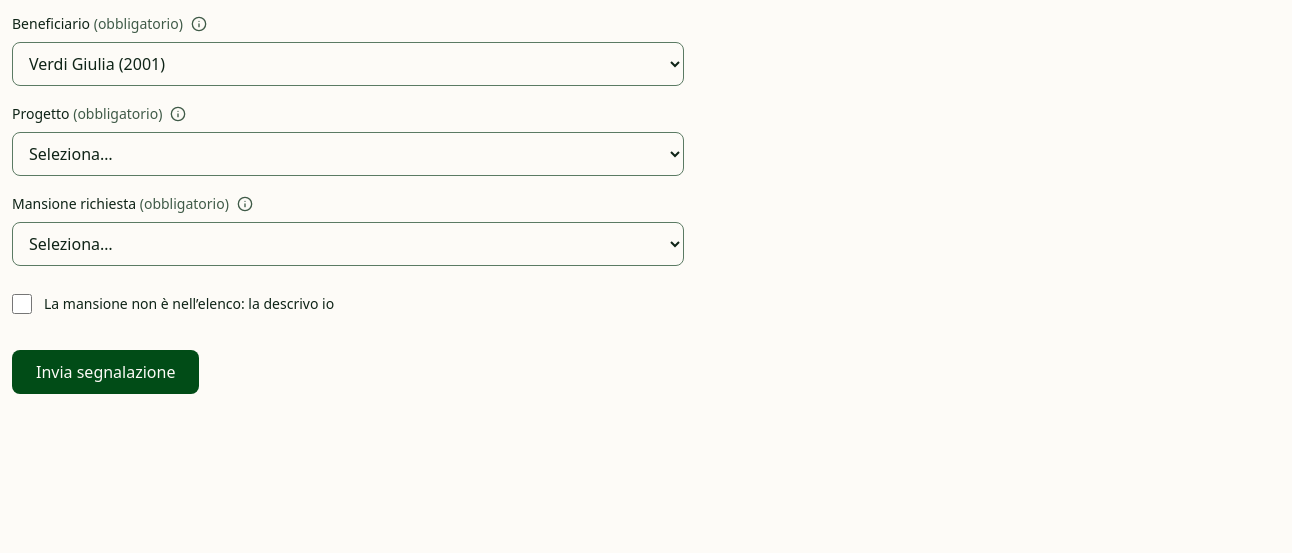
it: <TicketForm> › riporta sul campo l’errore del server
Select "POLIS" in the dropdown labelled "Progetto (obbligatorio)" at (348, 154), box [12,132,684,176]
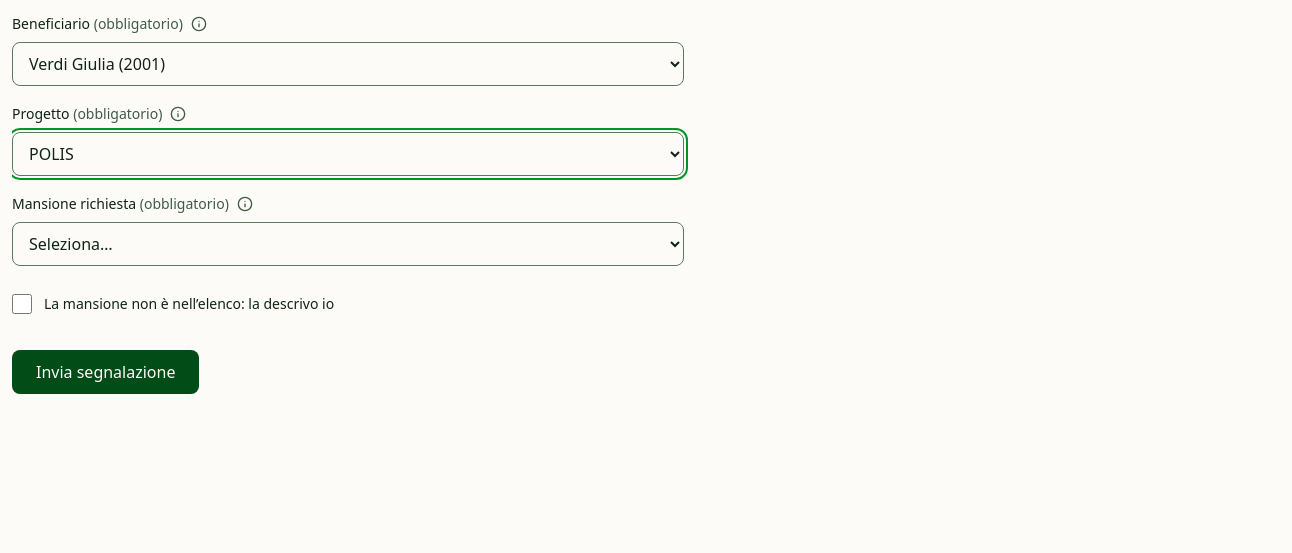
Select "Magazziniere" in the dropdown labelled "Mansione richiesta (obbligatorio)" at (348, 244), box [12,222,684,266]
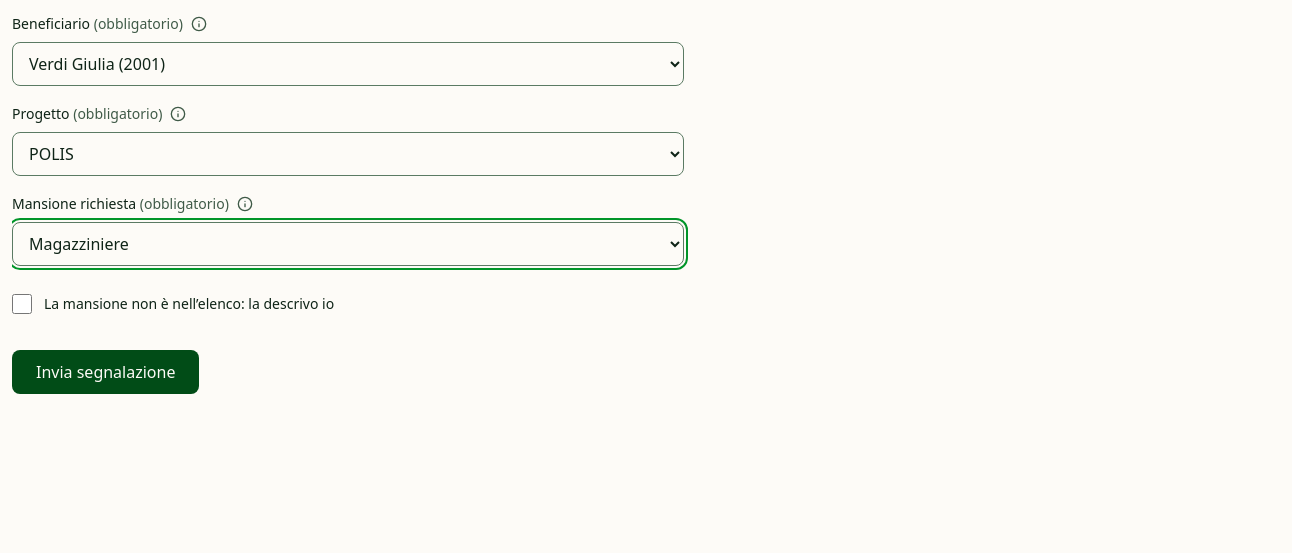
Click the button "Invia segnalazione" at (106, 372), box [12,350,200,394]
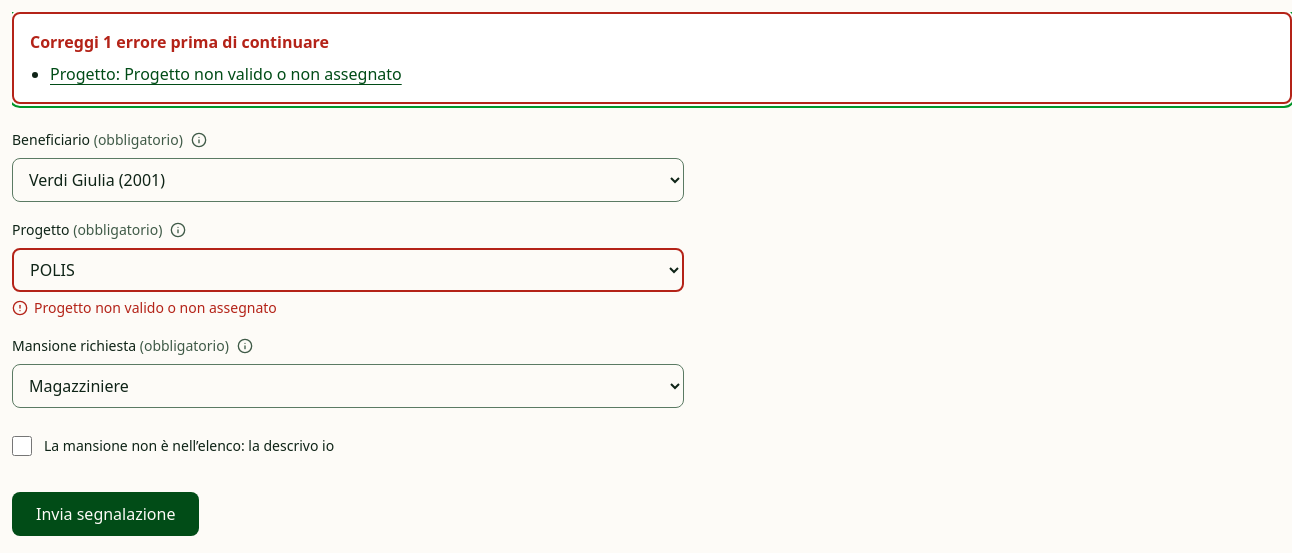
Check: the link "Progetto: Progetto non valido o non assegnato" is shown, box [50,63,402,85]
